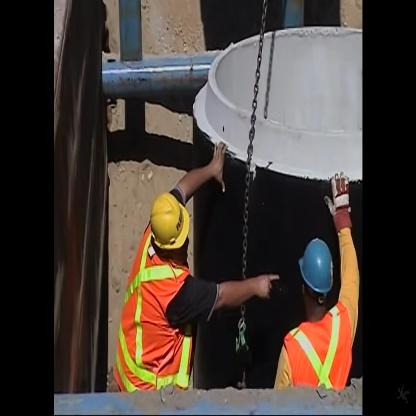helmet: (138, 191, 201, 259), (295, 234, 334, 321)
